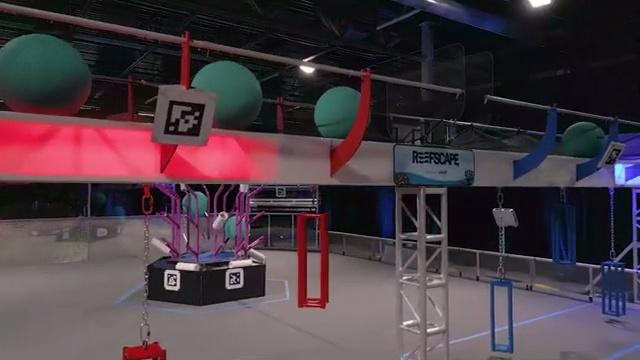ALGAE: (1, 34, 91, 119), (191, 61, 262, 131), (314, 85, 371, 141), (562, 121, 605, 159)
